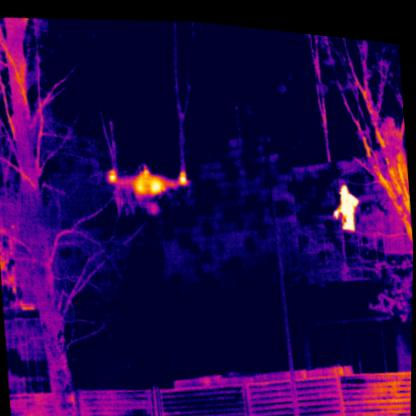drone: (105, 152, 190, 218)
